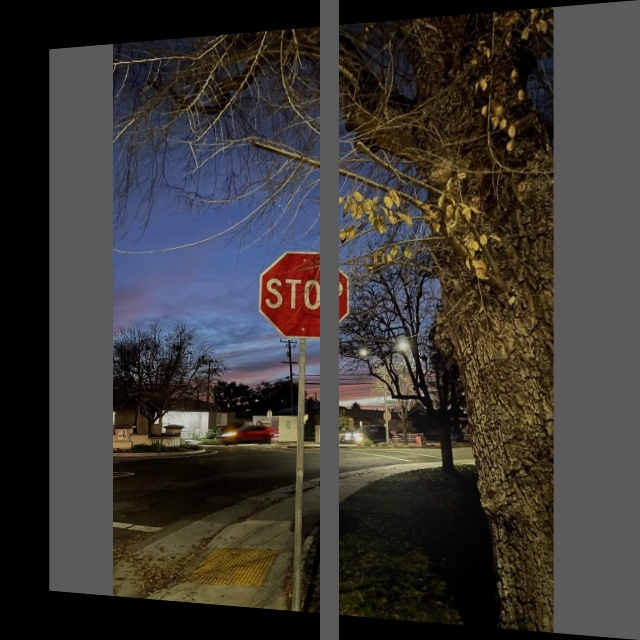Stop: (258, 251, 349, 341)
